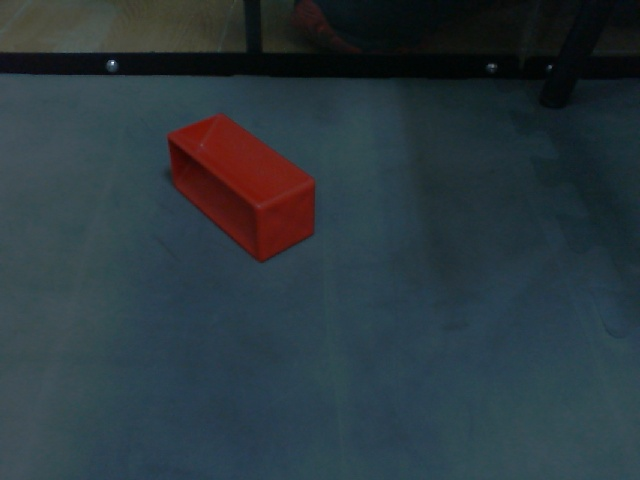RedSample: (165, 111, 318, 265)
